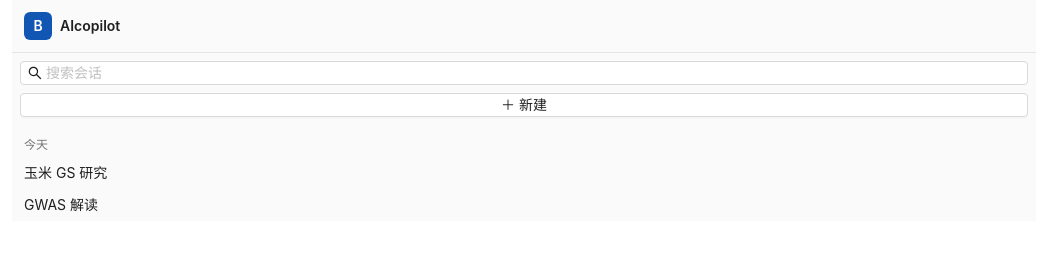
Test: thread action menu visibility › shows the menu for the hovered row only
Hover over the list item "GWAS 解读" at (524, 205), box left=12, top=189, right=1036, bottom=221
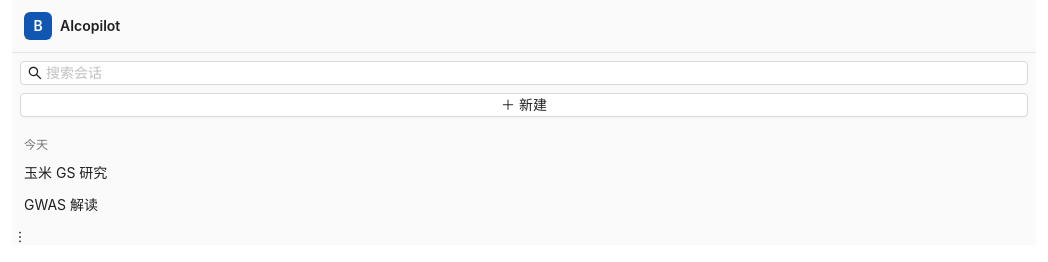
Expected: the number of buttons named "会话操作" is 1, left=12, top=225, right=32, bottom=245
